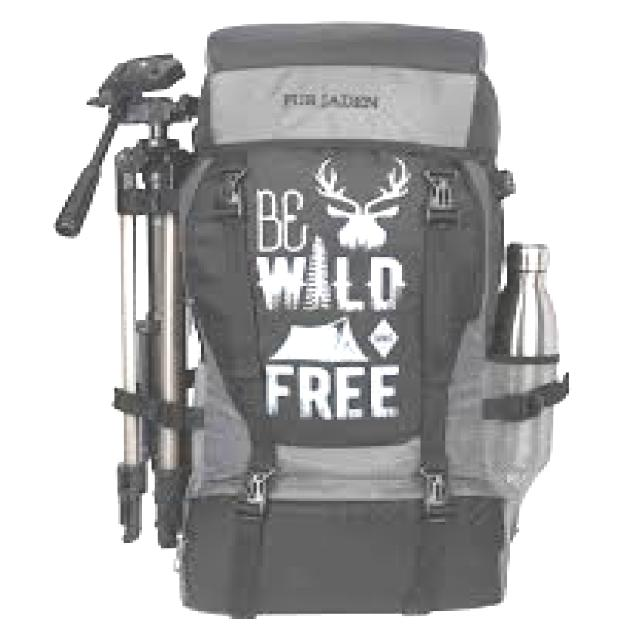backpack: (54, 20, 570, 620)
